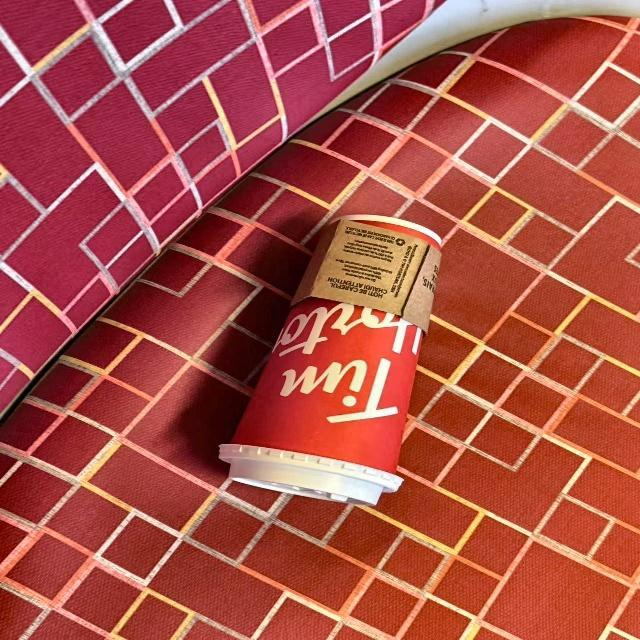timmies: (214, 208, 448, 510)
